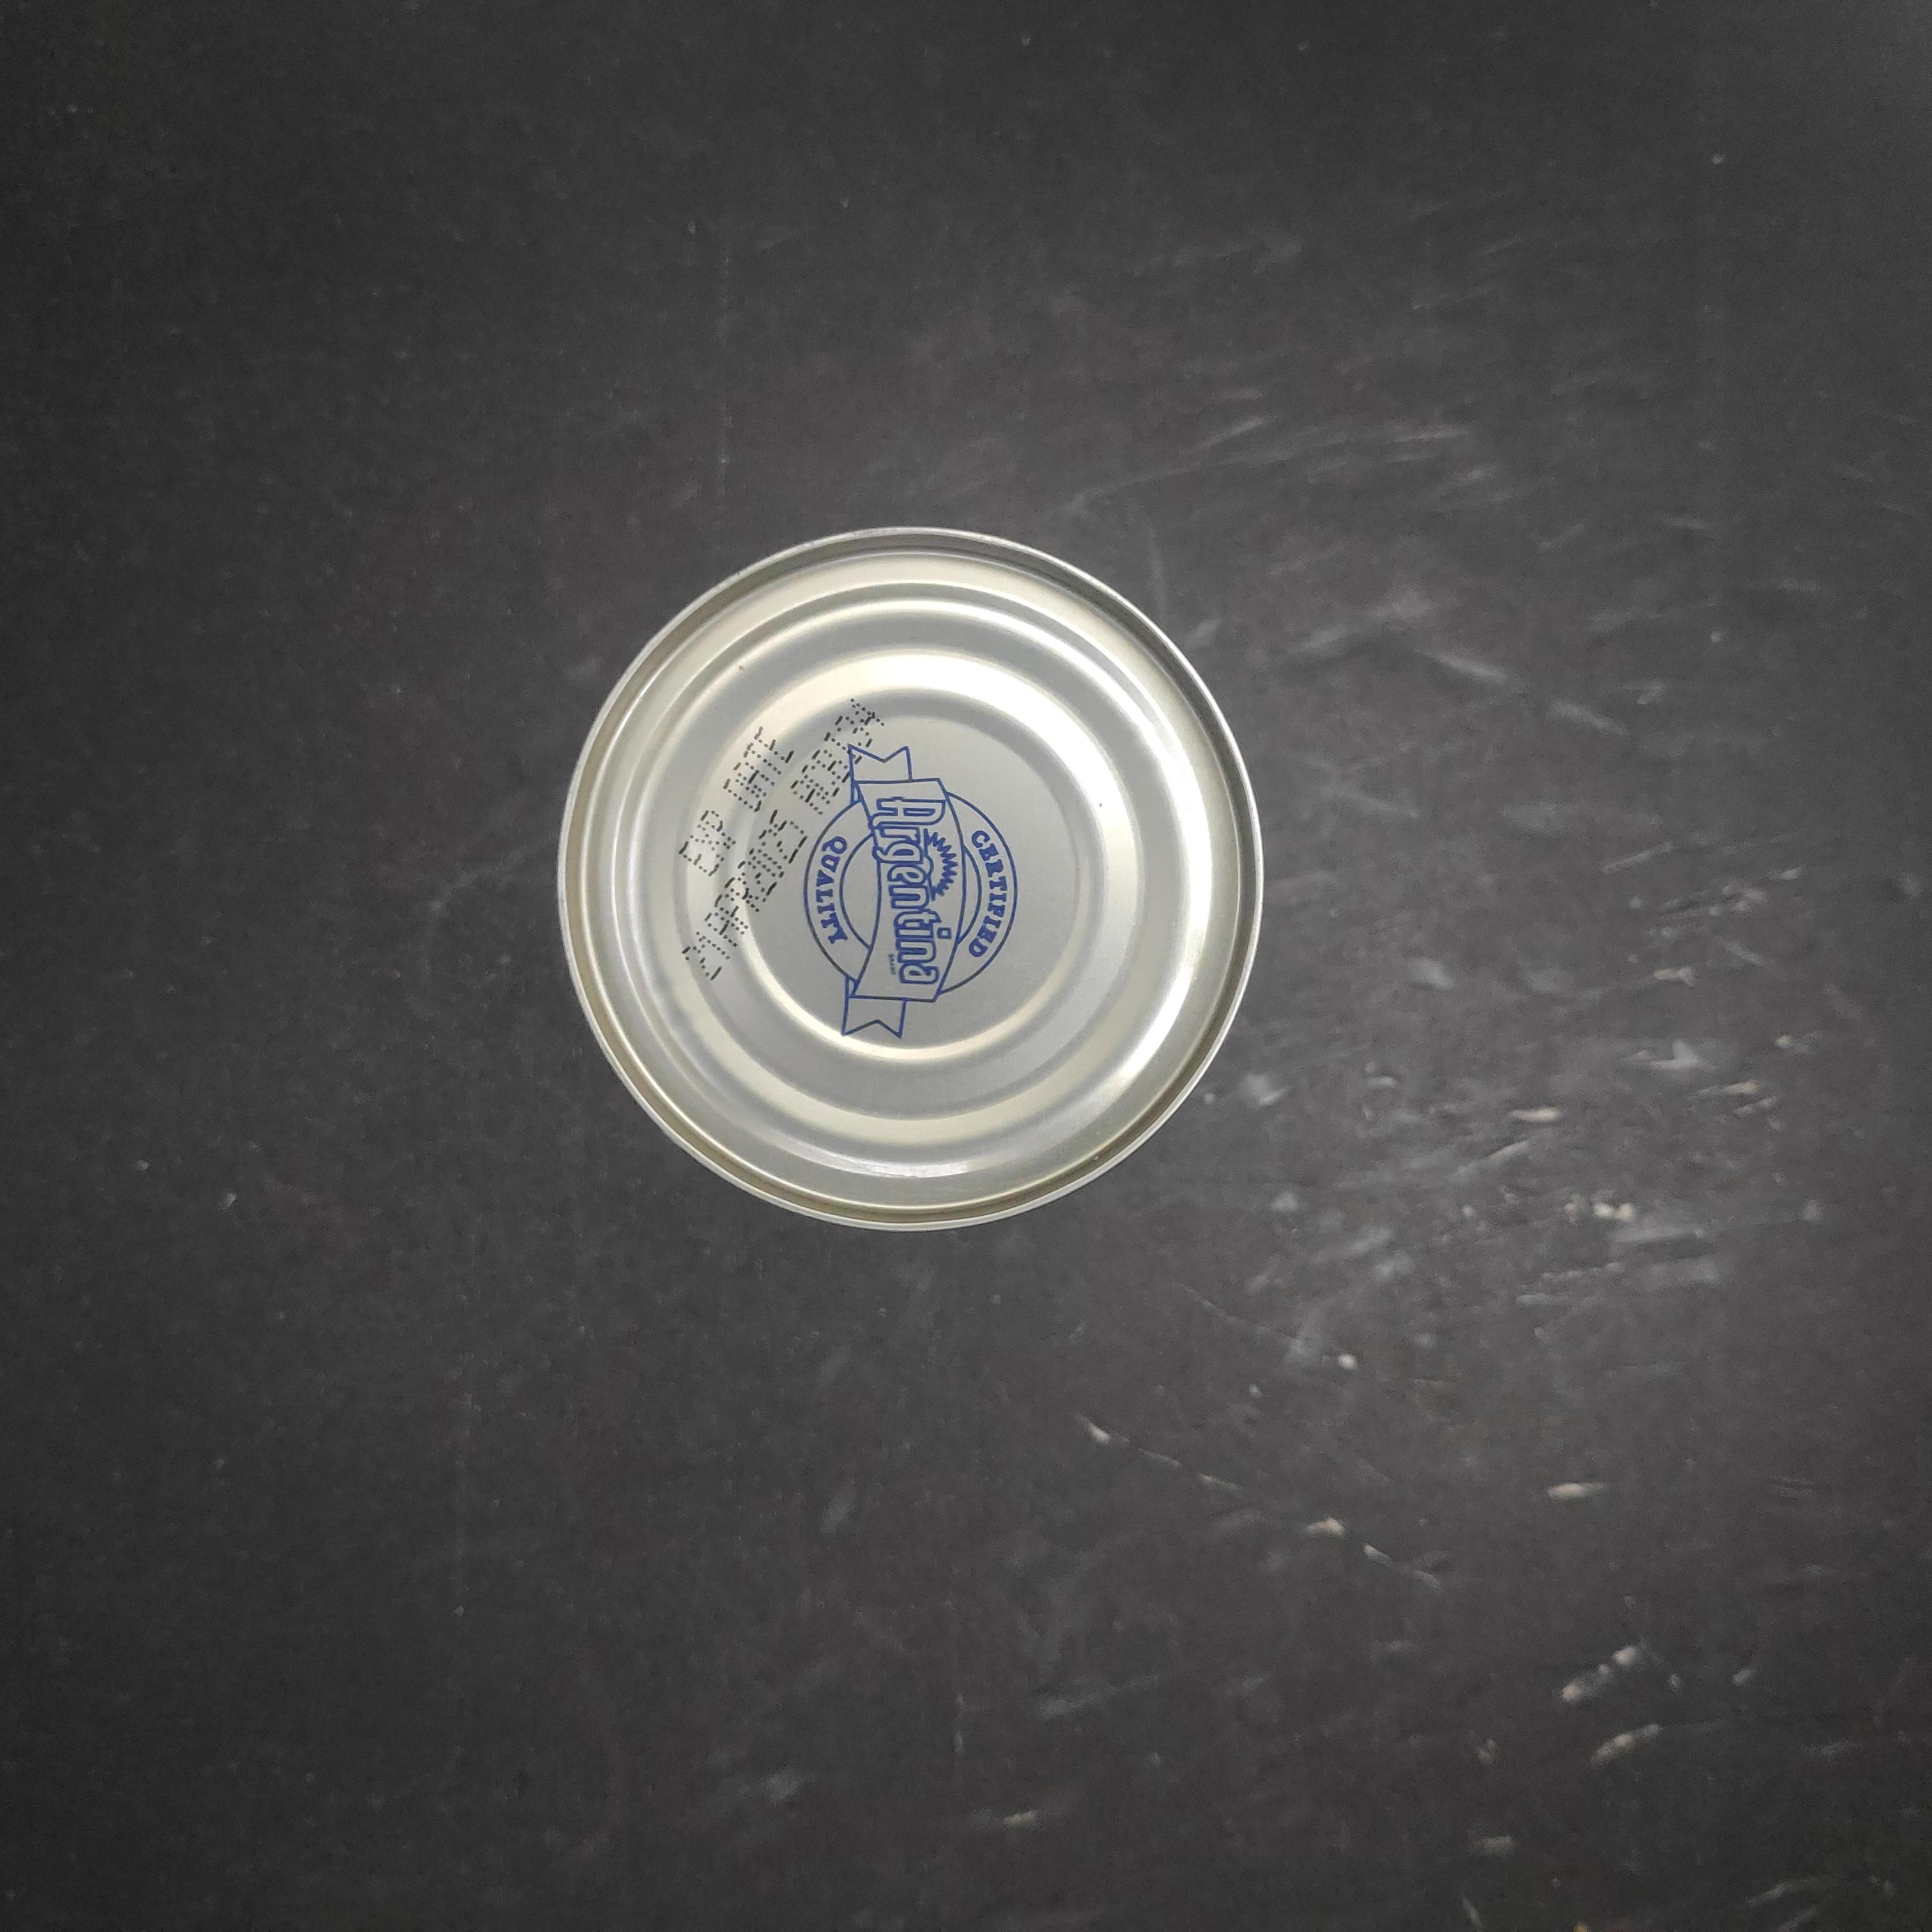No defect: (554, 525, 1267, 1233)
